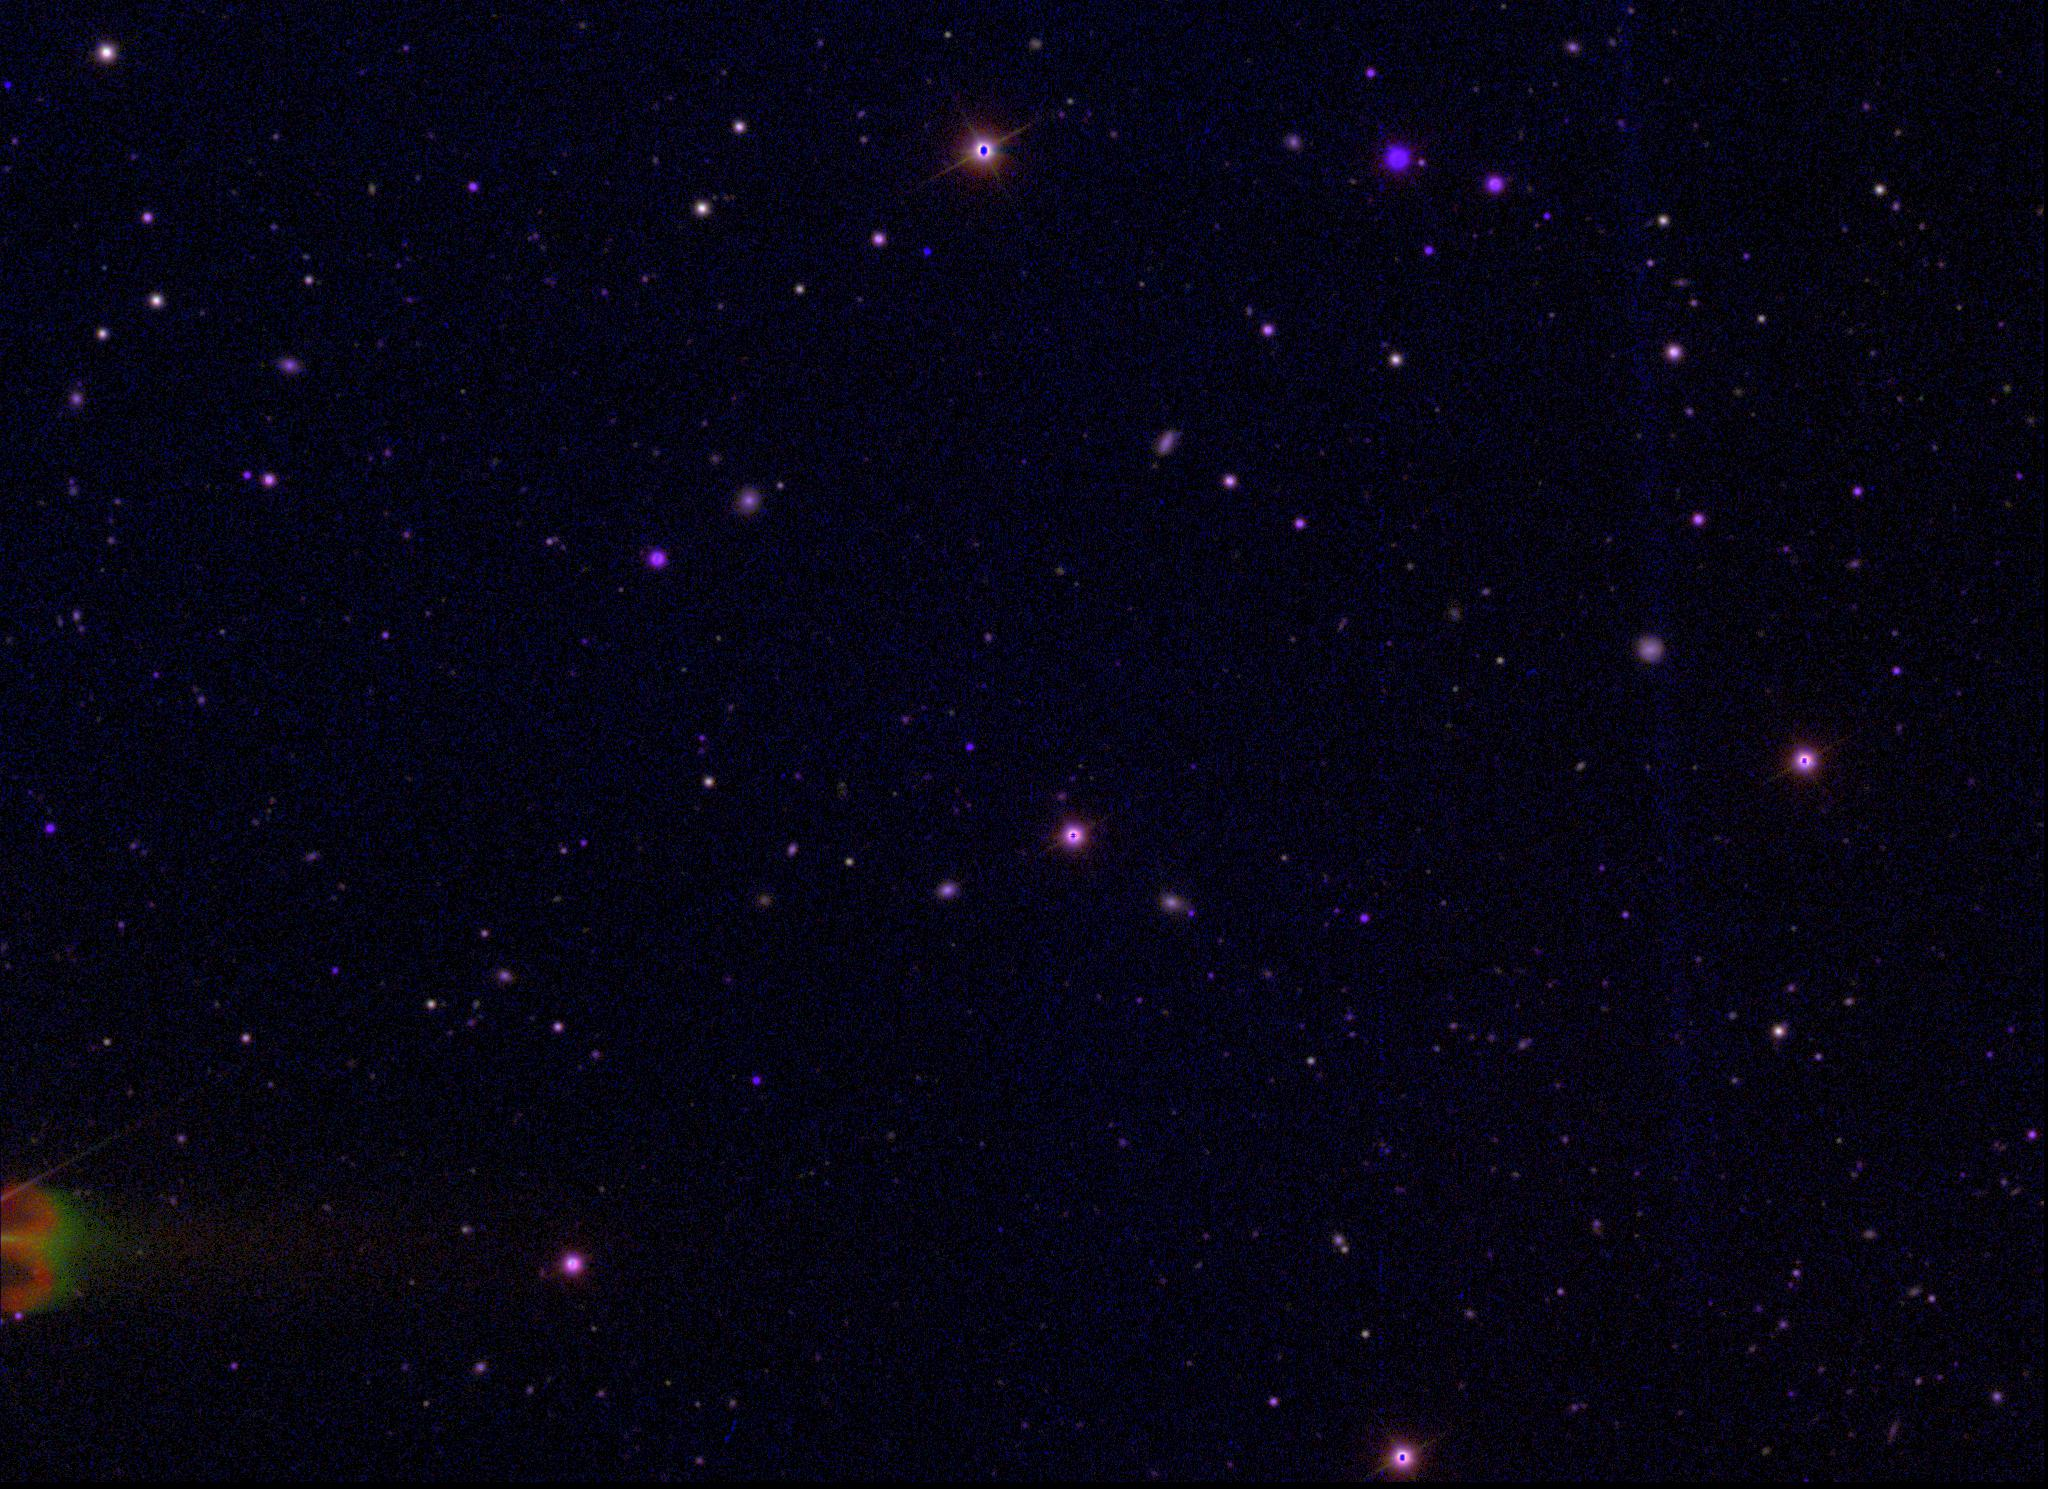L: (921, 243, 933, 258)
